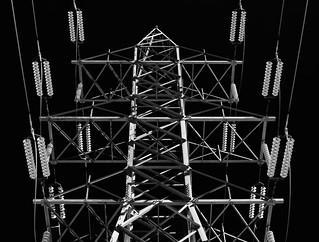power_tower: (24, 26, 294, 242)
